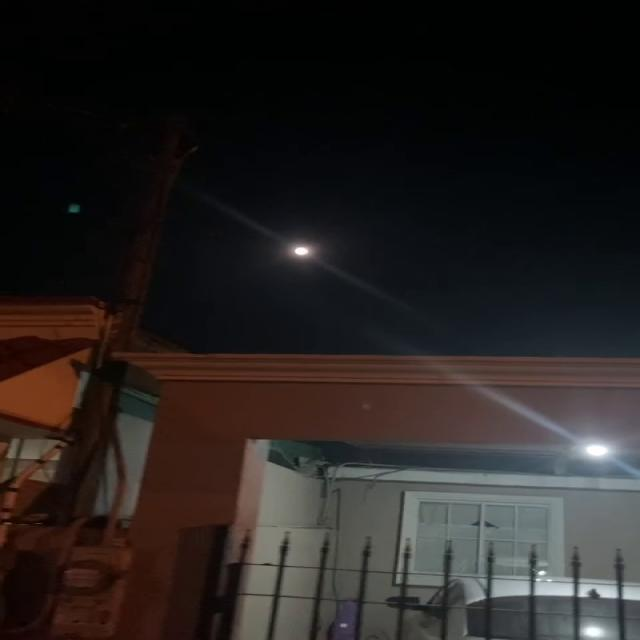moon: (283, 236, 326, 262)
